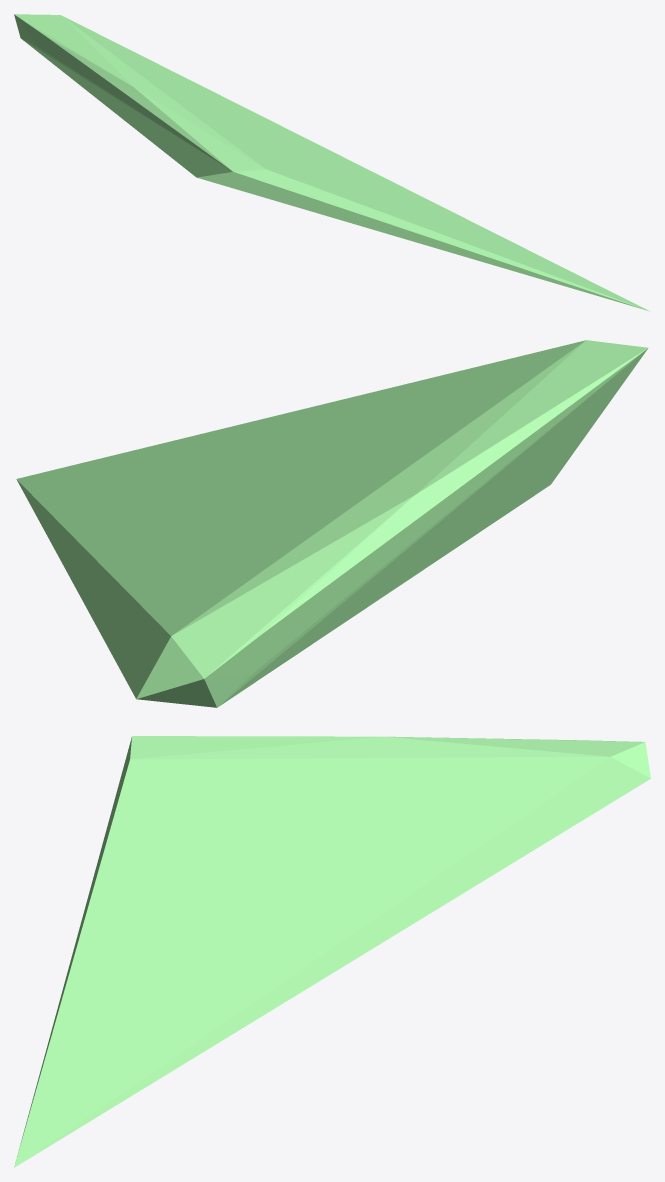
Rendered from xarm7_with_gripper_robot_base_coll_8.dae.
3 renders of one model, top to bottom at view 1: azimuth 30°, elevation 25°; view 2: azimuth 150°, elevation 25°; view 3: azimuth 270°, elevation 25°, orthographic. The views are drawn at different scales.
Parts seen in each view (by area): view 1: Node_000001B89B5E5B60; view 2: Node_000001B89B5E5B60; view 3: Node_000001B89B5E5B60.
Boxes of the visible parts, box(x1,y1,x2,y2) form: Node_000001B89B5E5B60: box(14, 14, 649, 311); Node_000001B89B5E5B60: box(16, 340, 648, 707); Node_000001B89B5E5B60: box(14, 736, 650, 1167).
Bounding box in the file's own units: 0.1623 × 0.0828 × 0.2097.
